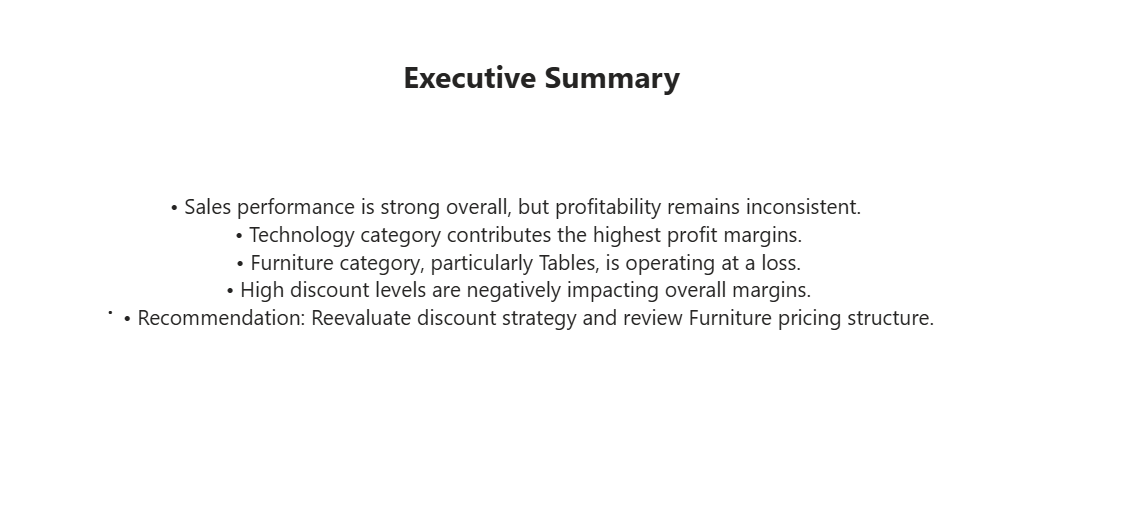

What the dashboard file says about the page in this screenshot:
{"tool":"powerbi","page":{"name":"Page 2","canvas":[1280,720],"ordinal":1},"visuals":[{"type":"textbox","box":[518,48,279,60],"z":0},{"type":"textbox","box":[232,151,804,209],"z":1}]}

Visuals, with their boxes on the page's 1280x720 design canvas (x1, y1, x2, y2). These are canvas units, not pixel positions in the 1133x505 screenshot, which may show the page scaled, cropped or inside an application window:
textbox: <region>518, 48, 797, 108</region>
textbox: <region>232, 151, 1036, 360</region>
